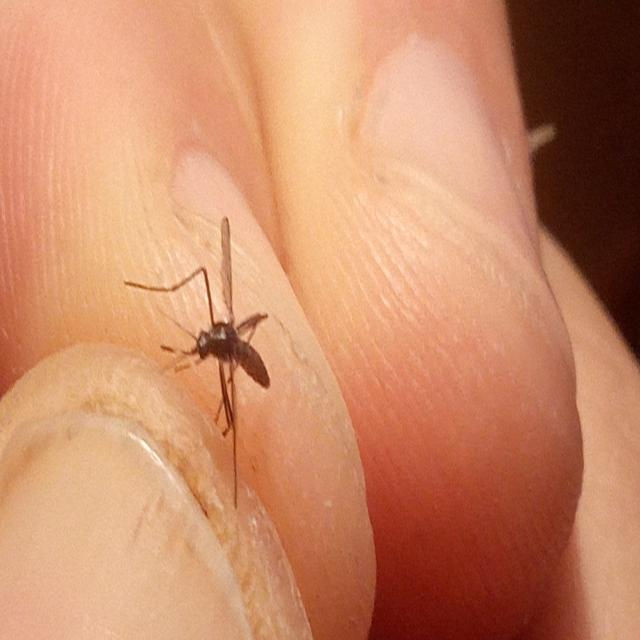albopictus: (129, 217, 272, 495)
